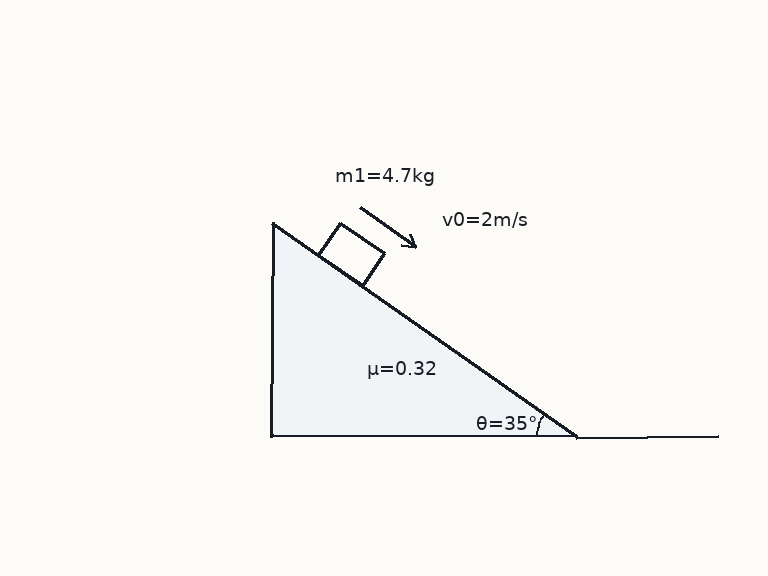block: (316, 221, 386, 287)
ramp: (270, 221, 579, 438)
